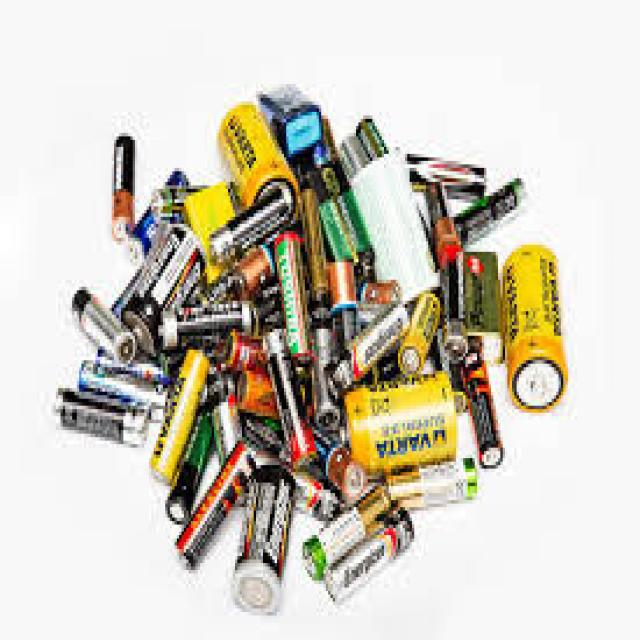battery: (58, 91, 561, 609)
